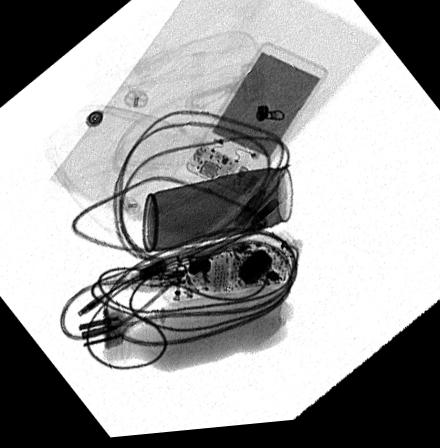Powerbank: (186, 45, 327, 203)
